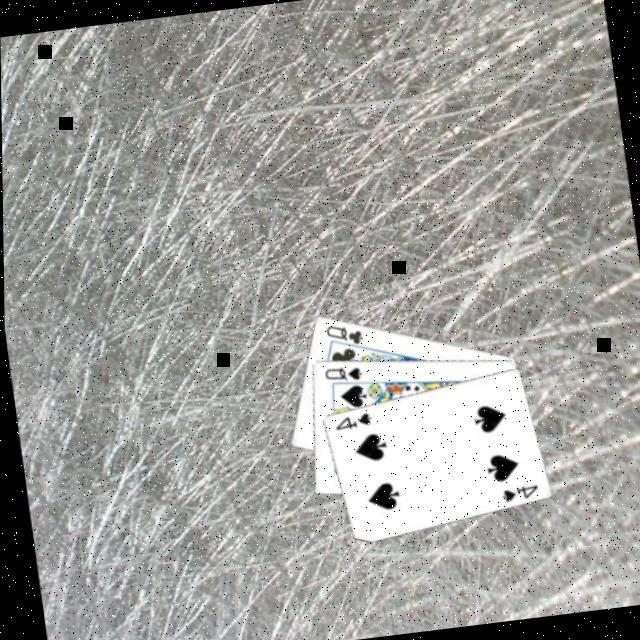4S: (494, 479, 538, 505), (326, 408, 371, 433)
QC: (318, 317, 363, 350)
QS: (317, 360, 361, 385)
